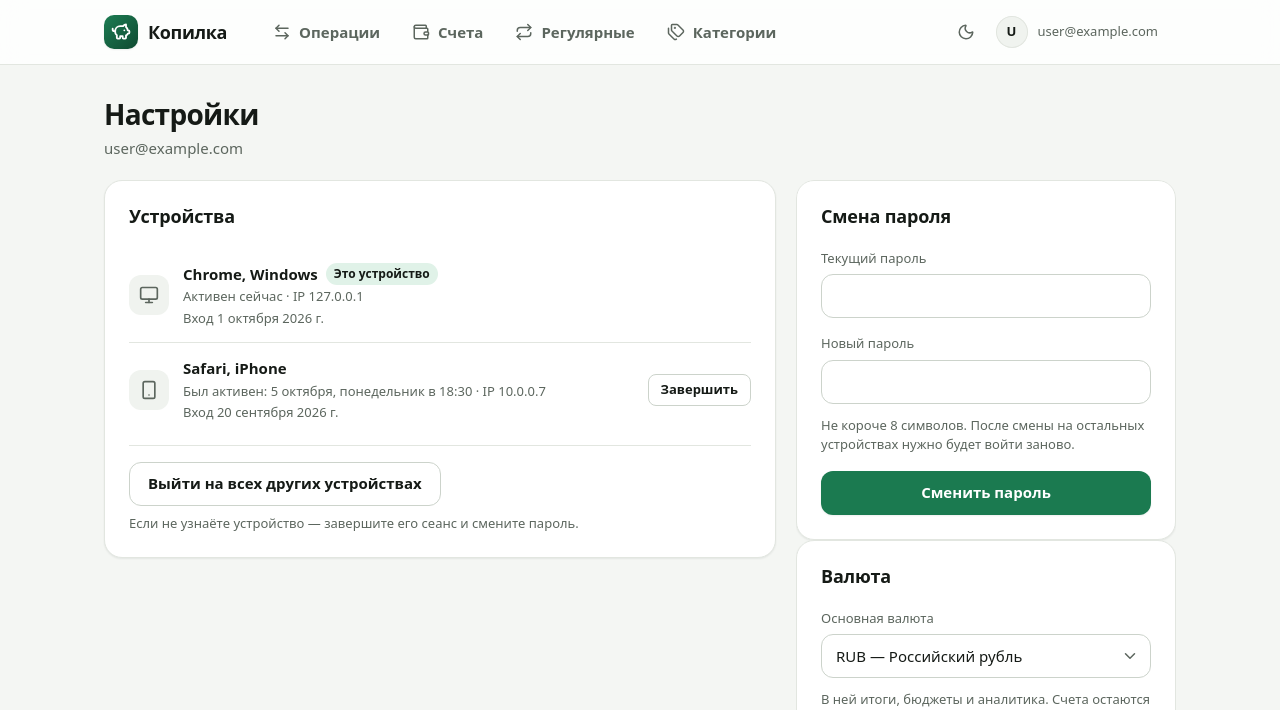
Test case: SettingsPage › signs out everywhere else at once
This screenshot has width=1280, height=710.
Click the button "Выйти на всех других устройствах". click: click(285, 484)
box: [129, 462, 441, 506]
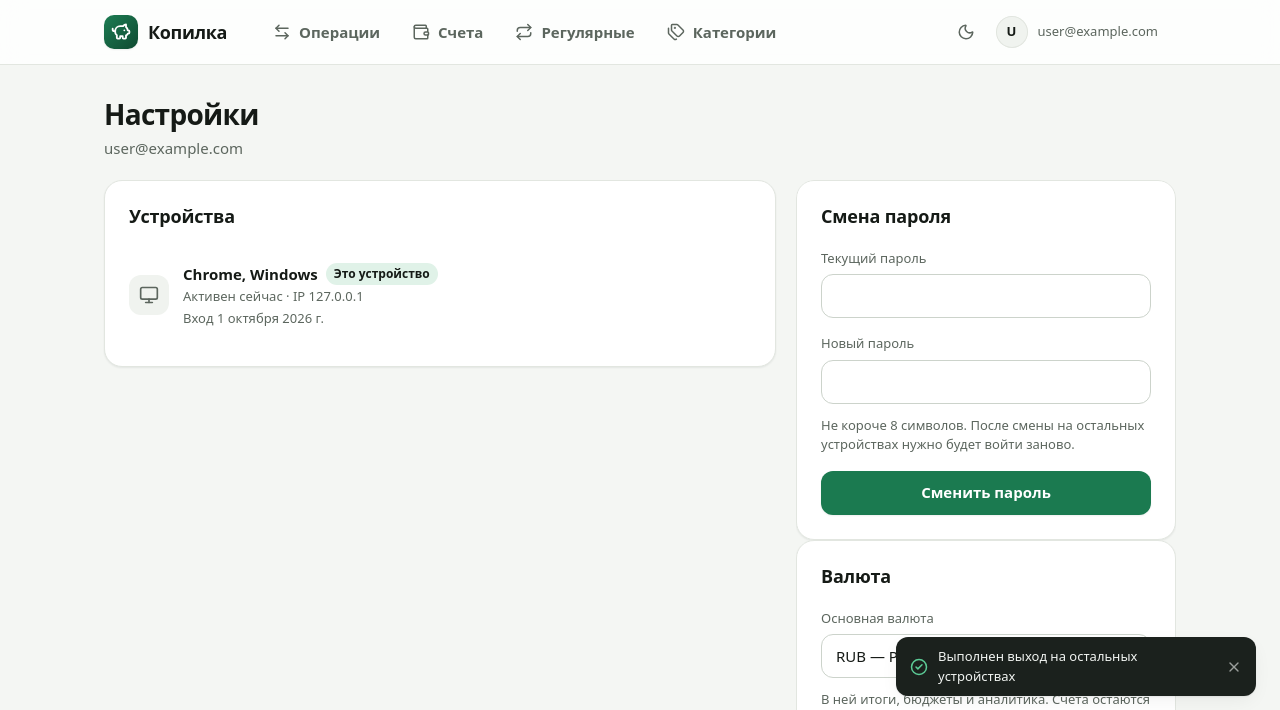
Check: the text "Выполнен выход на остальных устройствах" is shown, box [938, 647, 1137, 684]
